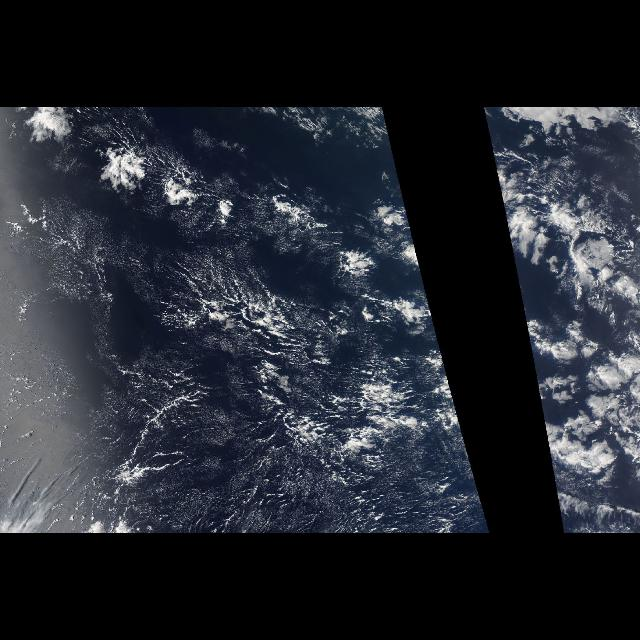Flower: (24, 115, 456, 408), (484, 115, 636, 488)
Gravel: (245, 311, 429, 534)
Sugar: (6, 184, 342, 412), (172, 441, 452, 521)
